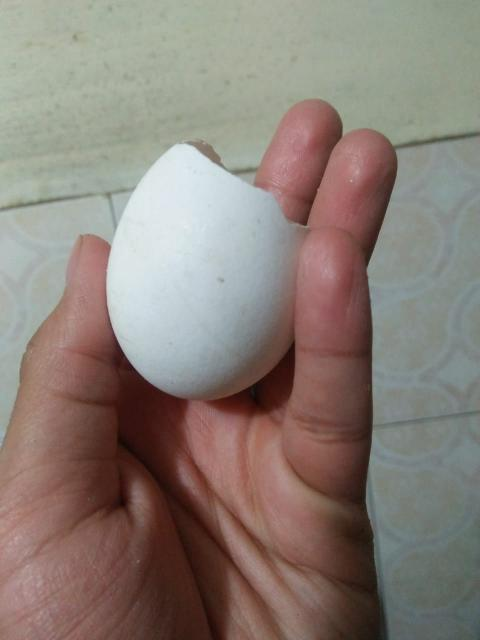Roto: (105, 138, 310, 402)
